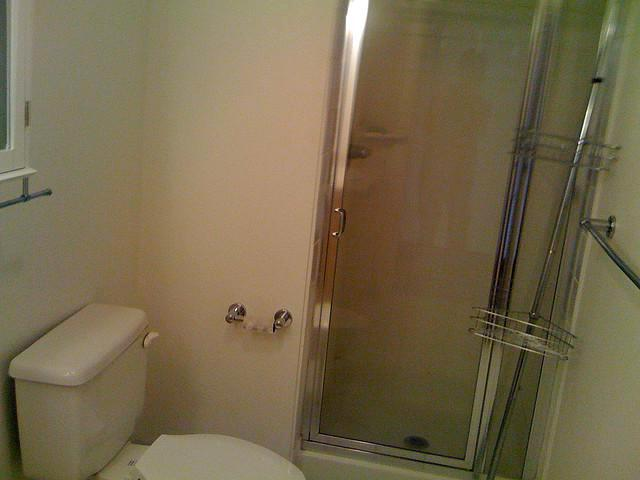Ducha: (303, 0, 631, 479)
Sanitario: (12, 296, 313, 479)
